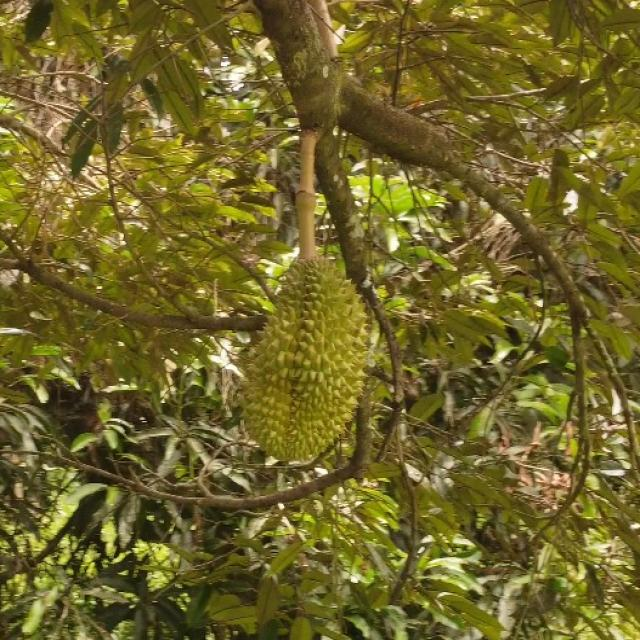immature: (243, 254, 370, 458)
